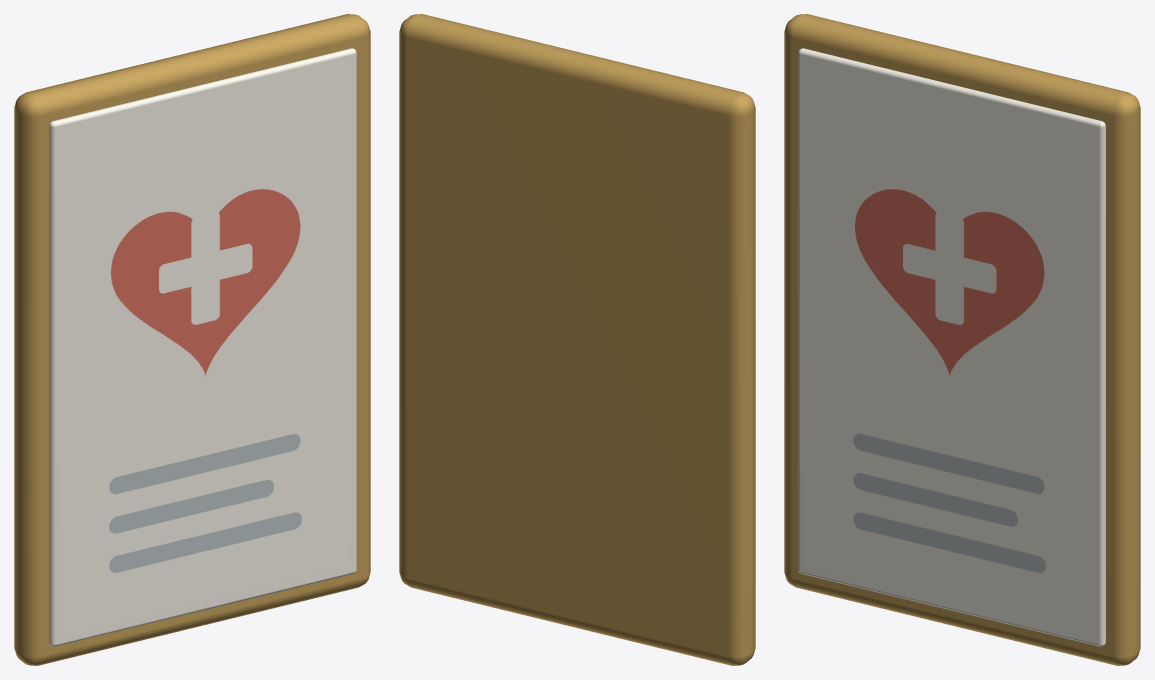
File: Reception_Poster_Heart.glb
The picture shows the model from 3 angles, left to right: view 1: azimuth 30°, elevation 25°; view 2: azimuth 150°, elevation 25°; view 3: azimuth 330°, elevation 25°; orthographic projection.
Parts seen in each view (by area): view 1: Reception_Poster_Heart__Graphics, Reception_Poster_Heart__Visual; view 2: Reception_Poster_Heart__Graphics; view 3: Reception_Poster_Heart__Graphics, Reception_Poster_Heart__Visual.
Boxes of the visible parts, box(x1,y1,x2,y2) form: Reception_Poster_Heart__Graphics: box(14, 14, 370, 665); Reception_Poster_Heart__Visual: box(49, 48, 356, 646); Reception_Poster_Heart__Graphics: box(399, 14, 755, 665); Reception_Poster_Heart__Graphics: box(784, 14, 1140, 665); Reception_Poster_Heart__Visual: box(798, 48, 1105, 646).
Size of the model in its own units: 0.59 by 0.92 by 0.066.
Materials: 2 (2 with a texture image).
